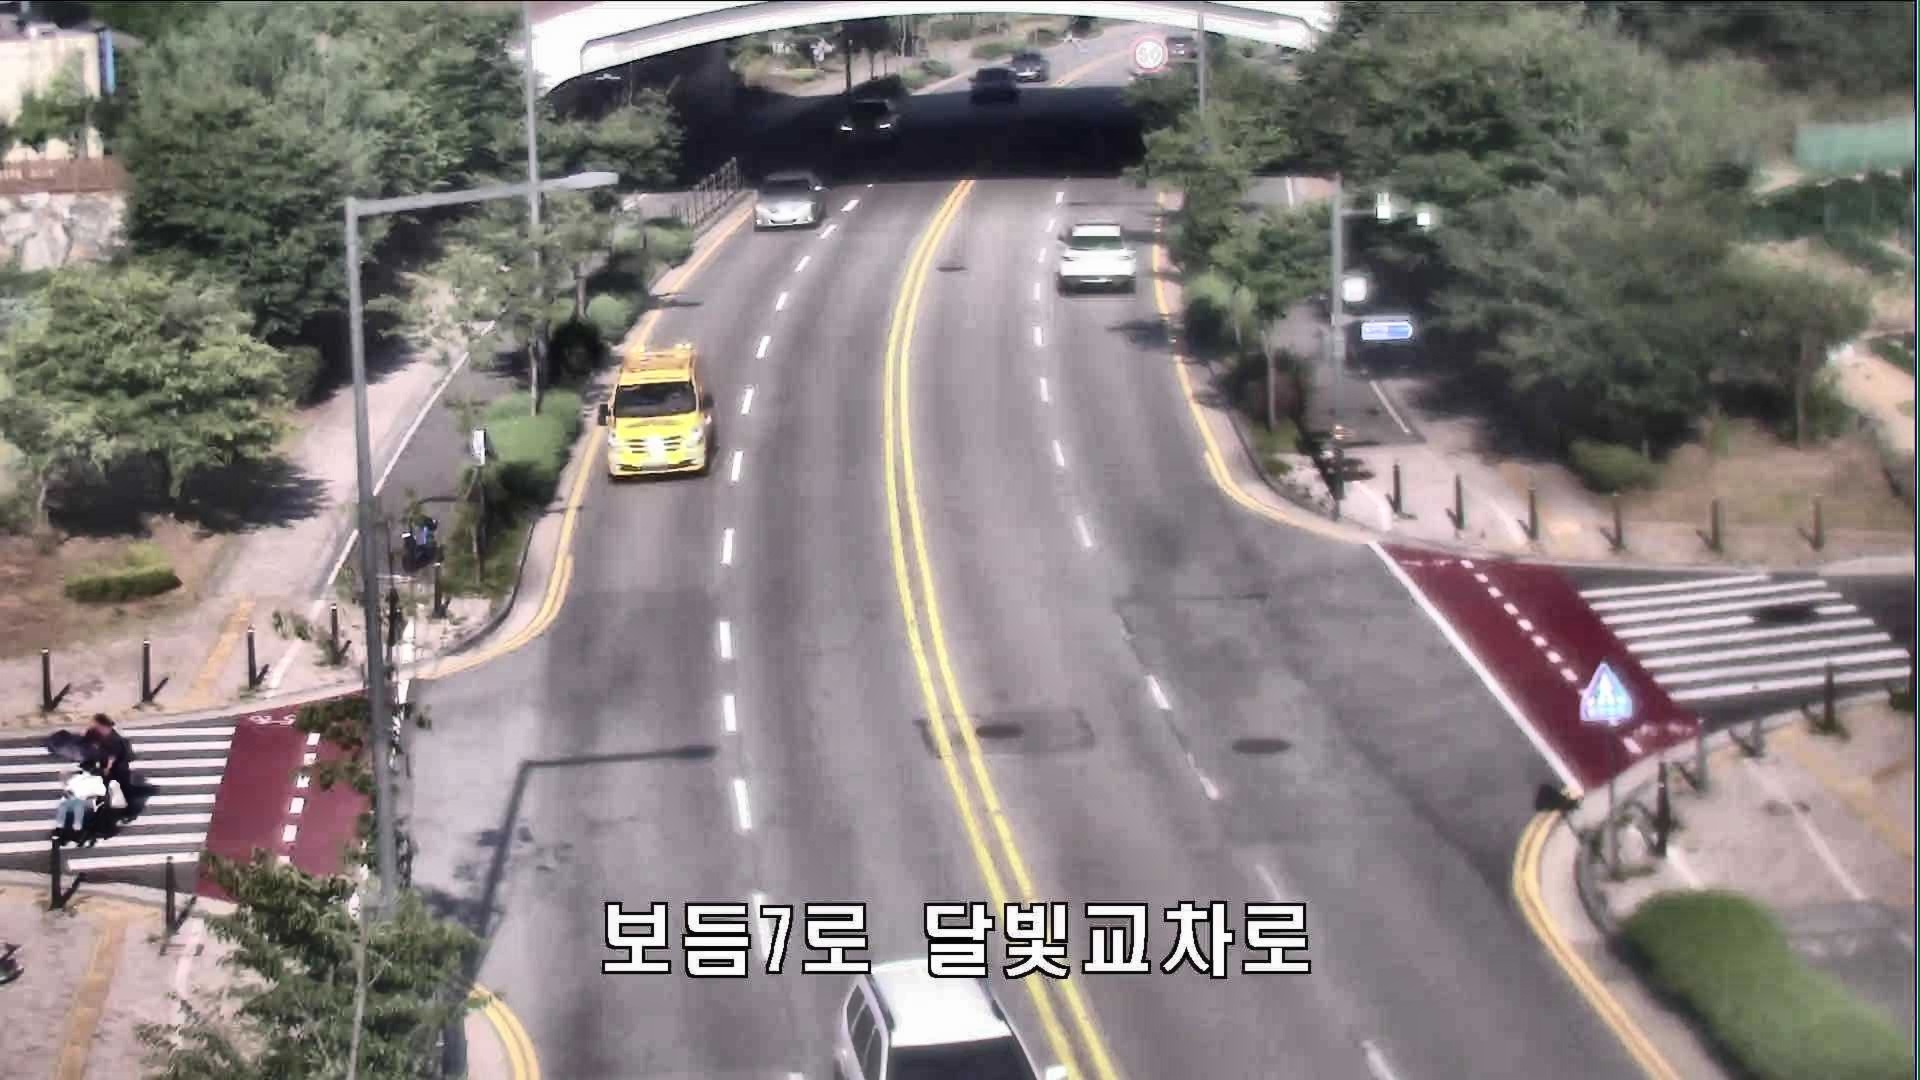crosswalk: (86, 708, 136, 829)
um_crosswalk: (46, 735, 105, 847)
